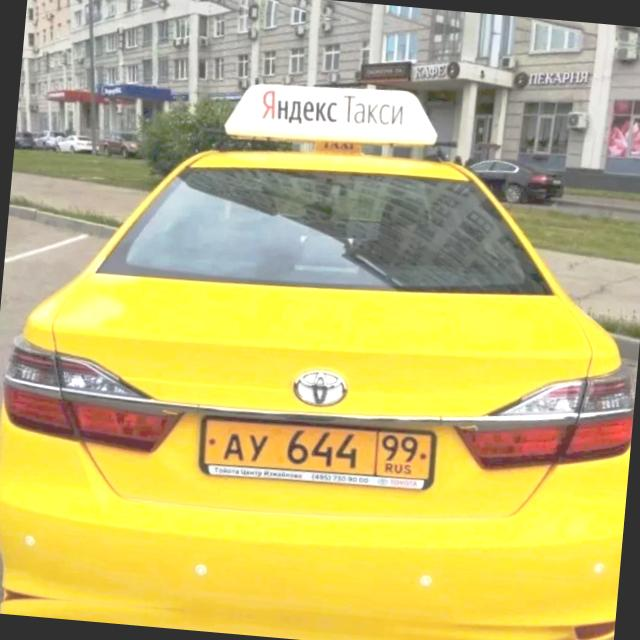taxi: (188, 402, 448, 502)
